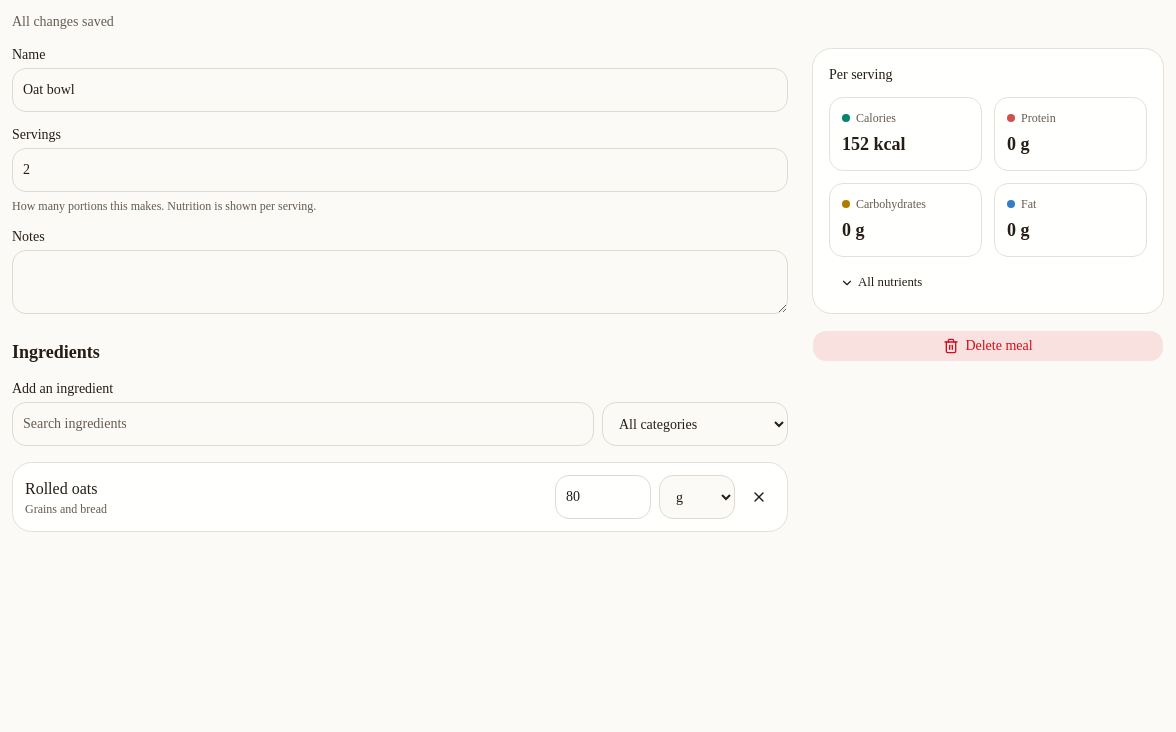
Test: MealEditor › explains a unit the ingredient cannot convert, keeps the draft, and does not retry by itself
The width and height of the screenshot is (1176, 732).
Select "ml" in the dropdown named "Unit for Rolled oats" at (697, 497), box [659,475,735,519]
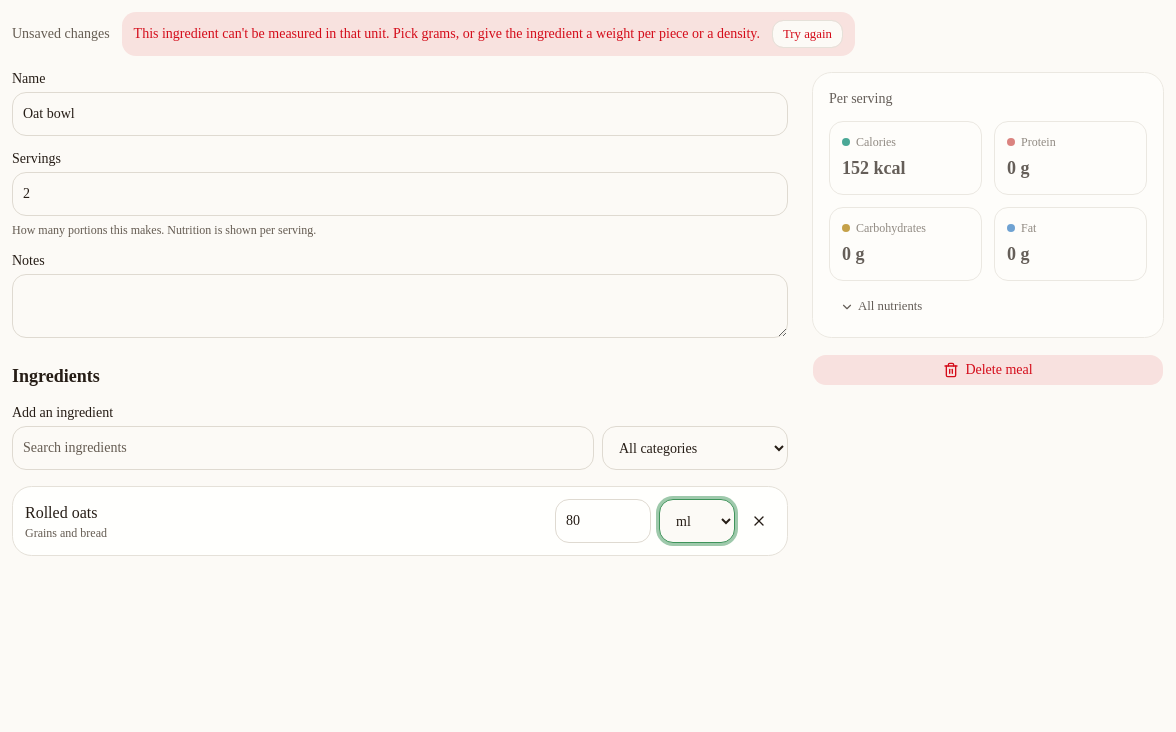
expect the text "can't be measured in that unit" is shown: met, box [134,26,760,41]
Select "g" in the dropdown named "Unit for Rolled oats" at (697, 521), box [659,499,735,543]
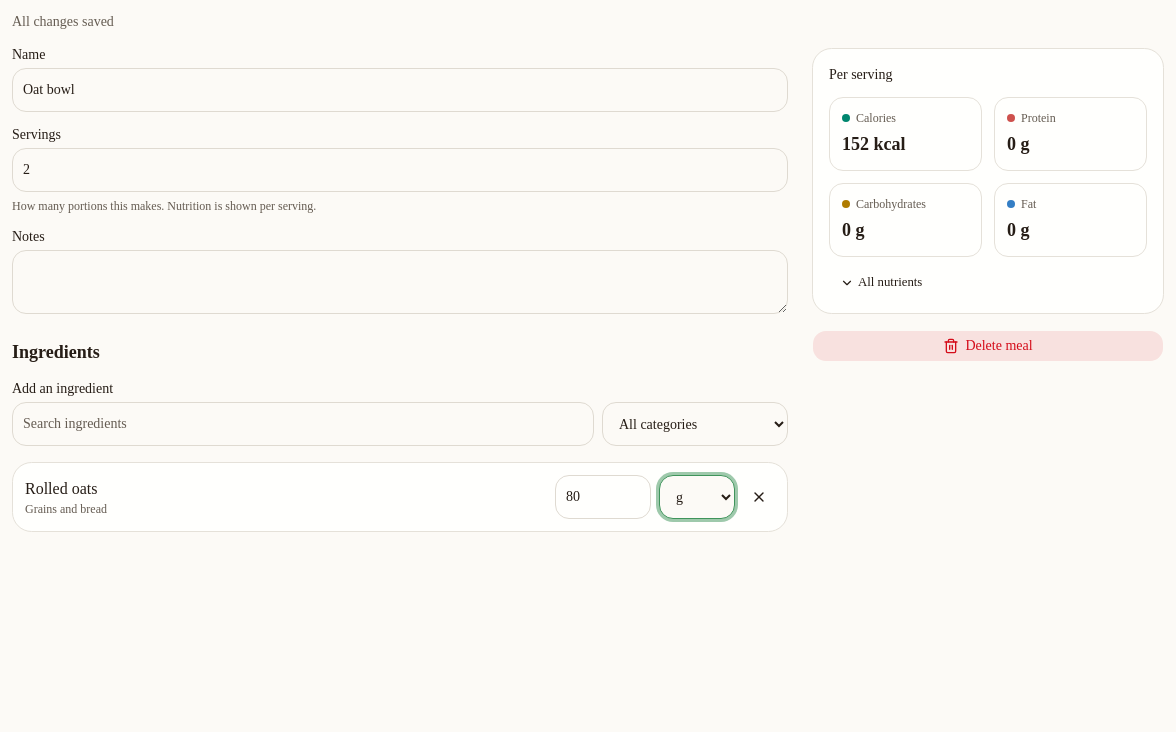
expect the text "can't be measured in that unit" is gone: met
